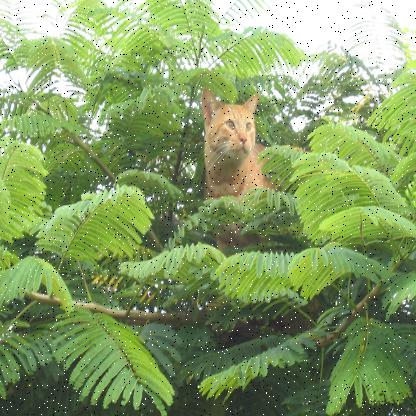cat: (191, 82, 270, 228)
